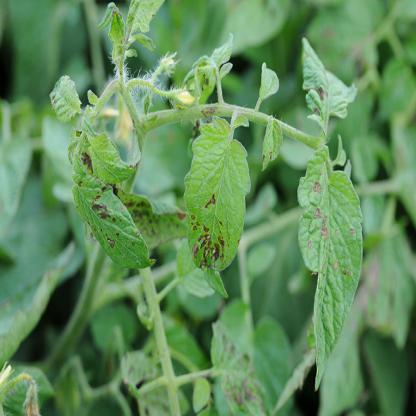tomato leaf bacterial spot: (294, 156, 365, 403), (188, 118, 252, 299), (64, 146, 141, 286)
